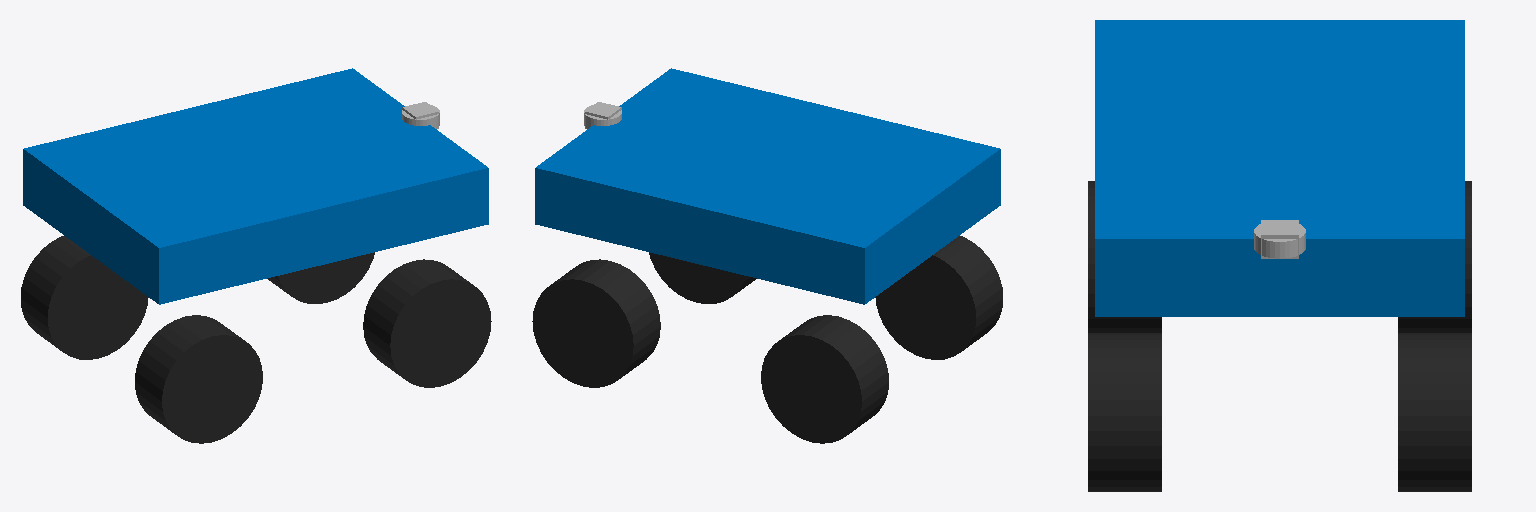
URDF robot description (four_wheel_robot):
<?xml version="1.0"?>
<robot name="four_wheel_robot">

    <!-- Materials -->
    <material name="blue">
        <color rgba="0.0 0.5 0.8 1.0" />
    </material>
    <material name="dark_gray">
        <color rgba="0.2 0.2 0.2 1.0" />
    </material>
    <material name="silver">
        <color rgba="0.75 0.75 0.75 1.0" />
    </material>

    <!-- Dimensions (hardcoded, meters) -->
    <!-- chassis: length=1.4, width=1.0, depth=0.23, bottom height=0.6 -->
    <!-- Chassis center at z = 0.6 + 0.23/2 = 0.715 -->
    <!-- Wheelbase = 0.97, half = 0.485 -->
    <!-- Track width = 0.84, half = 0.42 -->
    <!-- Wheel radius = 0.215 -->
    <!-- Sensor height = 0.6 + 0.23 = 0.83 -->
    <!-- Front/back x offset for camera/lidar = 0.7 (chassis length/2) -->

    <!-- =========================== -->
    <!-- Base Link                   -->
    <!-- =========================== -->
    <link name="base_link" />

    <!-- =========================== -->
    <!-- Chassis                      -->
    <!-- =========================== -->
    <link name="chassis">
        <visual>
            <geometry>
                <box size="1.4 1.0 0.23" />
            </geometry>
            <origin xyz="0 0 0.715" rpy="0 0 0" />
            <material name="blue" />
        </visual>
        <collision>
            <geometry>
                <box size="1.4 1.0 0.23" />
            </geometry>
            <origin xyz="0 0 0.715" rpy="0 0 0" />
        </collision>
        <inertial>
            <mass value="10.0" />
            <inertia ixx="0.1" ixy="0.0" ixz="0.0" iyy="0.1" iyz="0.0" izz="0.1" />
        </inertial>
    </link>

    <joint name="chassis_joint" type="fixed">
        <parent link="base_link" />
        <child link="chassis" />
        <origin xyz="0 0 0" rpy="0 0 0" />
    </joint>

    <!-- =========================== -->
    <!-- Wheels                       -->
    <!-- =========================== -->
    <!-- Macro expanded manually -->

    <!-- Front Left -->
    <link name="front_left_link">
        <visual>
            <geometry>
                <cylinder radius="0.215" length="0.2" />
            </geometry>
            <origin xyz="0 0 0" rpy="1.57079632679 0 0" /> <!-- 90° about X to make cylinder vertical -->
            <material name="dark_gray" />
        </visual>
        <collision>
            <geometry>
                <cylinder radius="0.215" length="0.2" />
            </geometry>
            <origin xyz="0 0 0" rpy="1.57079632679 0 0" />
        </collision>
        <inertial>
            <mass value="1.0" />
            <inertia ixx="0.01" ixy="0" ixz="0" iyy="0.01" iyz="0" izz="0.01" />
        </inertial>
    </link>
    <joint name="front_left_joint" type="revolute">
        <parent link="base_link" />
        <child link="front_left_link" />
        <origin xyz="0.485 -0.42 0.215" rpy="0 0 0" />
        <axis xyz="0 1 0" />
        <limit effort="100" velocity="10" lower="-1e308" upper="1e308" />
        <dynamics damping="0.1" friction="0.1" />
    </joint>

    <!-- Front Right -->
    <link name="front_right_link">
        <visual>
            <geometry>
                <cylinder radius="0.215" length="0.2" />
            </geometry>
            <origin xyz="0 0 0" rpy="1.57079632679 0 0" />
            <material name="dark_gray" />
        </visual>
        <collision>
            <geometry>
                <cylinder radius="0.215" length="0.2" />
            </geometry>
            <origin xyz="0 0 0" rpy="1.57079632679 0 0" />
        </collision>
        <inertial>
            <mass value="1.0" />
            <inertia ixx="0.01" ixy="0" ixz="0" iyy="0.01" iyz="0" izz="0.01" />
        </inertial>
    </link>
    <joint name="front_right_joint" type="revolute">
        <parent link="base_link" />
        <child link="front_right_link" />
        <origin xyz="0.485 0.42 0.215" rpy="0 0 0" />
        <axis xyz="0 1 0" />
        <limit effort="100" velocity="10" lower="-1e308" upper="1e308" />
        <dynamics damping="0.1" friction="0.1" />
    </joint>

    <!-- Rear Left -->
    <link name="rear_left_link">
        <visual>
            <geometry>
                <cylinder radius="0.215" length="0.2" />
            </geometry>
            <origin xyz="0 0 0" rpy="1.57079632679 0 0" />
            <material name="dark_gray" />
        </visual>
        <collision>
            <geometry>
                <cylinder radius="0.215" length="0.2" />
            </geometry>
            <origin xyz="0 0 0" rpy="1.57079632679 0 0" />
        </collision>
        <inertial>
            <mass value="1.0" />
            <inertia ixx="0.01" ixy="0" ixz="0" iyy="0.01" iyz="0" izz="0.01" />
        </inertial>
    </link>
    <joint name="rear_left_joint" type="revolute">
        <parent link="base_link" />
        <child link="rear_left_link" />
        <origin xyz="-0.485 -0.42 0.215" rpy="0 0 0" />
        <axis xyz="0 1 0" />
        <limit effort="100" velocity="10" lower="-1e308" upper="1e308" />
        <dynamics damping="0.1" friction="0.1" />
    </joint>

    <!-- Rear Right -->
    <link name="rear_right_link">
        <visual>
            <geometry>
                <cylinder radius="0.215" length="0.2" />
            </geometry>
            <origin xyz="0 0 0" rpy="1.57079632679 0 0" />
            <material name="dark_gray" />
        </visual>
        <collision>
            <geometry>
                <cylinder radius="0.215" length="0.2" />
            </geometry>
            <origin xyz="0 0 0" rpy="1.57079632679 0 0" />
        </collision>
        <inertial>
            <mass value="1.0" />
            <inertia ixx="0.01" ixy="0" ixz="0" iyy="0.01" iyz="0" izz="0.01" />
        </inertial>
    </link>
    <joint name="rear_right_joint" type="revolute">
        <parent link="base_link" />
        <child link="rear_right_link" />
        <origin xyz="-0.485 0.42 0.215" rpy="0 0 0" />
        <axis xyz="0 1 0" />
        <limit effort="100" velocity="10" lower="-1e308" upper="1e308" />
        <dynamics damping="0.1" friction="0.1" />
    </joint>

    <!-- =========================== -->
    <!-- Camera & LiDAR               -->
    <!-- =========================== -->
    <link name="camera_link">
        <visual>
            <geometry>
                <box size="0.1 0.1 0.07" />
            </geometry>
            <origin xyz="0 0 0" />
            <material name="silver" />
        </visual>
        <inertial>
            <mass value="0.1" />
            <inertia ixx="0.001" ixy="0" ixz="0" iyy="0.001" iyz="0" izz="0.001" />
        </inertial>
    </link>

    <link name="lidar_link">
        <visual>
            <geometry>
                <cylinder radius="0.07" length="0.05" />
            </geometry>
            <origin xyz="0 0 0" rpy="0 0 0" />
            <material name="silver" />
        </visual>
        <inertial>
            <mass value="0.2" />
            <inertia ixx="0.001" ixy="0" ixz="0" iyy="0.001" iyz="0" izz="0.001" />
        </inertial>
    </link>

    <joint name="camera_joint" type="fixed">
        <parent link="base_link" />
        <child link="camera_link" />
        <origin xyz="0.7 0 0.83" rpy="0 0 0" />
    </joint>

    <joint name="lidar_joint" type="fixed">
        <parent link="base_link" />
        <child link="lidar_link" />
        <origin xyz="0.7 0 0.83" rpy="0 0 0" />
    </joint>

    <!-- base_footprint for ground reference -->
    <link name="base_footprint" />
    <joint name="base_footprint_joint" type="fixed">
        <parent link="base_link" />
        <child link="base_footprint" />
        <origin xyz="0 0 0" rpy="0 0 0" />
    </joint>

</robot>

--- Render facts (derived) ---
3 views of the same robot in one strip: view 1: azimuth 30°, elevation 25°; view 2: azimuth 150°, elevation 25°; view 3: azimuth 270°, elevation 25° (orthographic).
Robot: four_wheel_robot — 9 links, 8 joints (4 revolute, 4 fixed); root link base_link; default pose: all joints at 0.
Visible links, largest first — view 1: chassis, rear_left_link, front_left_link, rear_right_link, front_right_link; view 2: chassis, rear_right_link, front_right_link, rear_left_link, front_left_link; view 3: chassis, front_left_link, front_right_link, rear_left_link, rear_right_link, lidar_link, camera_link.
Boxes of the visible links, left/top/right/bottom form: chassis: left=23, top=68, right=488, bottom=304; rear_left_link: left=135, top=315, right=262, bottom=443; front_left_link: left=363, top=259, right=491, bottom=387; rear_right_link: left=21, top=236, right=148, bottom=359; front_right_link: left=267, top=252, right=374, bottom=303; chassis: left=535, top=68, right=1000, bottom=304; rear_right_link: left=761, top=315, right=888, bottom=443; front_right_link: left=532, top=259, right=660, bottom=387; rear_left_link: left=875, top=236, right=1002, bottom=359; front_left_link: left=649, top=252, right=756, bottom=303; chassis: left=1095, top=20, right=1464, bottom=316; front_left_link: left=1088, top=333, right=1161, bottom=491; front_right_link: left=1398, top=333, right=1471, bottom=491; rear_left_link: left=1088, top=181, right=1161, bottom=332; rear_right_link: left=1398, top=181, right=1471, bottom=332; lidar_link: left=1254, top=224, right=1305, bottom=258; camera_link: left=1261, top=220, right=1298, bottom=258.
Bounding box of the posed robot: 1.47 × 1.04 × 0.865 m (x, y, z).
Geometry: primitives only (box / cylinder / sphere), no mesh files.
